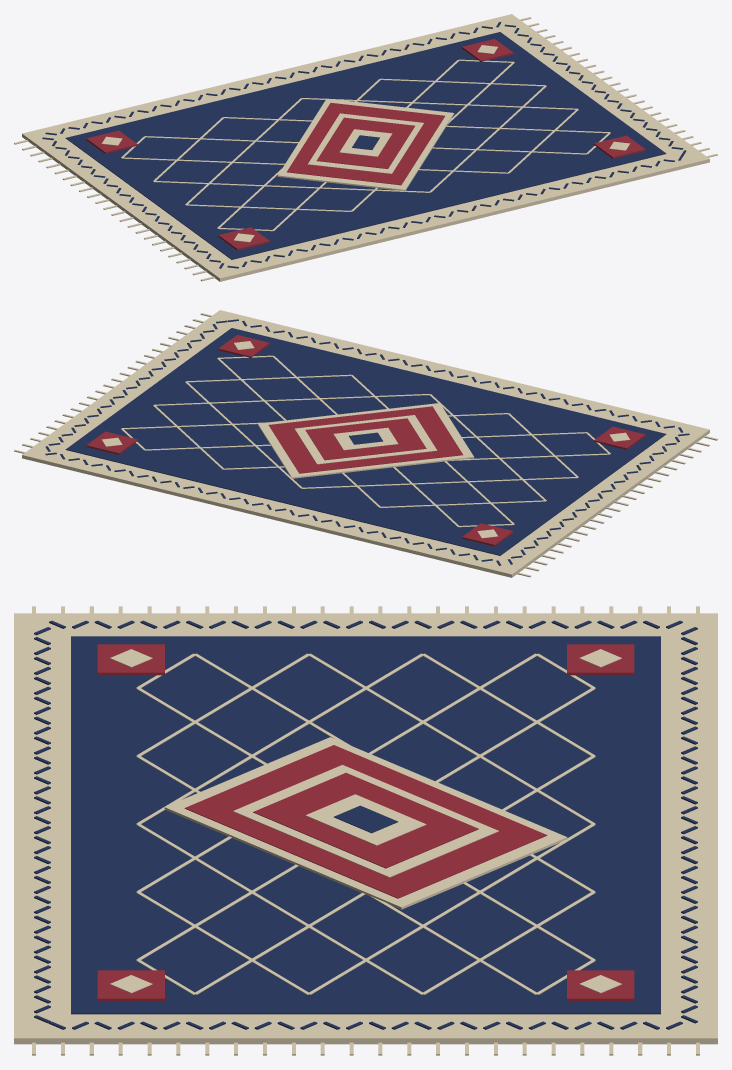
The model's file is floor_rug.glb.
3 views of the same model, one above another, from view 1: azimuth 30°, elevation 25°; view 2: azimuth 150°, elevation 25°; view 3: azimuth 270°, elevation 25° (orthographic). The views are drawn at different scales.
Visible parts, largest first — view 1: floor_rug; view 2: floor_rug; view 3: floor_rug.
Part boxes in pixels (x1,y1,x2,y2): floor_rug: [14, 14, 717, 281]; floor_rug: [14, 310, 717, 577]; floor_rug: [14, 606, 717, 1055].
Bounding box in the file's own units: 3.16 × 0.042 × 2.1.
